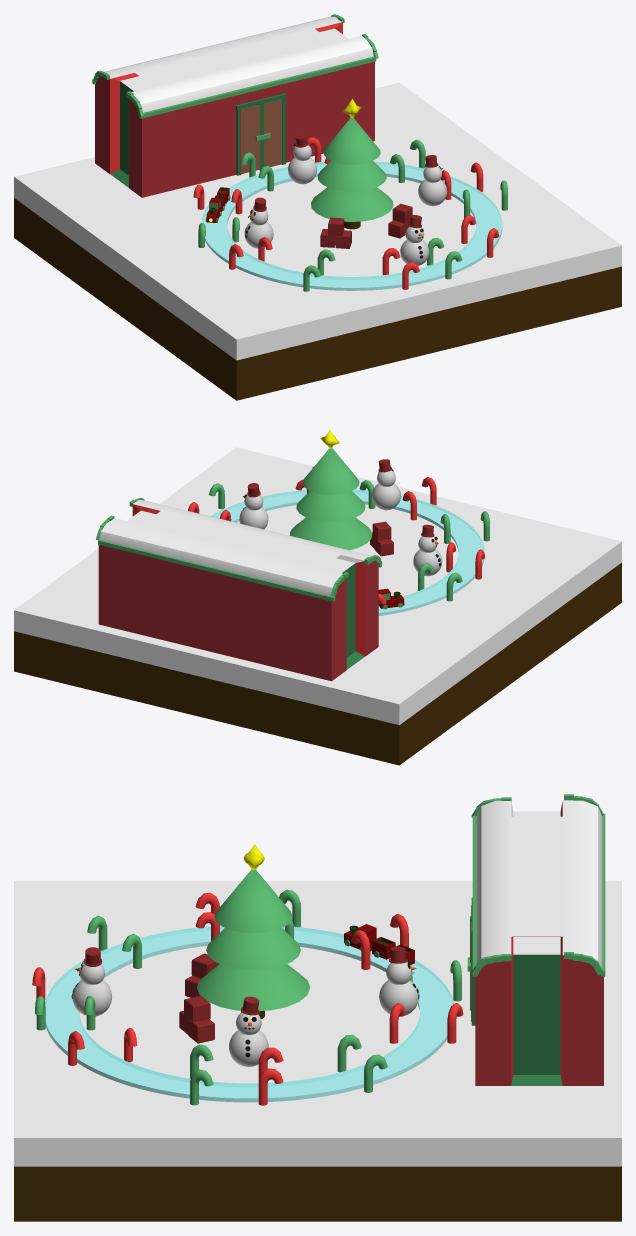
The picture shows the model from 3 angles, top to bottom: view 1: azimuth 30°, elevation 25°; view 2: azimuth 150°, elevation 25°; view 3: azimuth 270°, elevation 25°; orthographic projection. The views are drawn at different scales.
Parts seen in each view (by area): view 1: pCube4, pCube23, pCube10, pCone1, pCone3, pCone2, pCube32, pCube25, pCube26, polySurface13, polySurface15, polySurface14 (+4 smaller); view 2: pCube4, pCube23, pCube10, pCone1, pCone3, pCone2, pCube33, polySurface14, polySurface5, polySurface13, polySurface19; view 3: pCube4, pCube23, pCube10, pCone1, pCone3, pCone2, polySurface13, polySurface15, polySurface14, polySurface17, pCylinder15, pCube32 (+2 smaller).
Boxes of the visible parts, x1,y1,x2,y2 form: pCube4: [14, 82, 621, 400]; pCube23: [95, 16, 374, 197]; pCube10: [201, 161, 502, 290]; pCone1: [311, 187, 393, 221]; pCone3: [323, 118, 380, 164]; pCone2: [317, 161, 386, 191]; pCube32: [139, 56, 376, 118]; pCube25: [264, 99, 281, 166]; pCube26: [240, 105, 259, 174]; polySurface13: [418, 155, 447, 206]; polySurface15: [288, 133, 316, 184]; polySurface14: [400, 215, 429, 265]; pCube4: [14, 447, 621, 765]; pCube23: [98, 500, 378, 681]; pCube10: [210, 489, 484, 615]; pCone1: [289, 517, 372, 550]; pCone3: [302, 448, 359, 494]; pCone2: [296, 491, 365, 521]; pCube33: [98, 540, 335, 601]; polySurface14: [372, 459, 400, 510]; polySurface5: [413, 524, 442, 576]; polySurface13: [239, 483, 268, 529]; polySurface19: [370, 521, 393, 556]; pCube4: [14, 881, 621, 1221]; pCube23: [475, 800, 603, 1085]; pCube10: [45, 925, 454, 1102]; pCone1: [197, 964, 310, 1011]; pCone3: [214, 869, 292, 933]; pCone2: [206, 928, 300, 969]; polySurface13: [229, 996, 268, 1066]; polySurface15: [379, 946, 419, 1015]; polySurface14: [71, 947, 111, 1016]; polySurface17: [179, 996, 214, 1043]; pCylinder15: [344, 924, 414, 964]; pCube32: [472, 816, 476, 976].
Bounding box in the file's own units: 0.2391 × 0.1114 × 0.2391.
